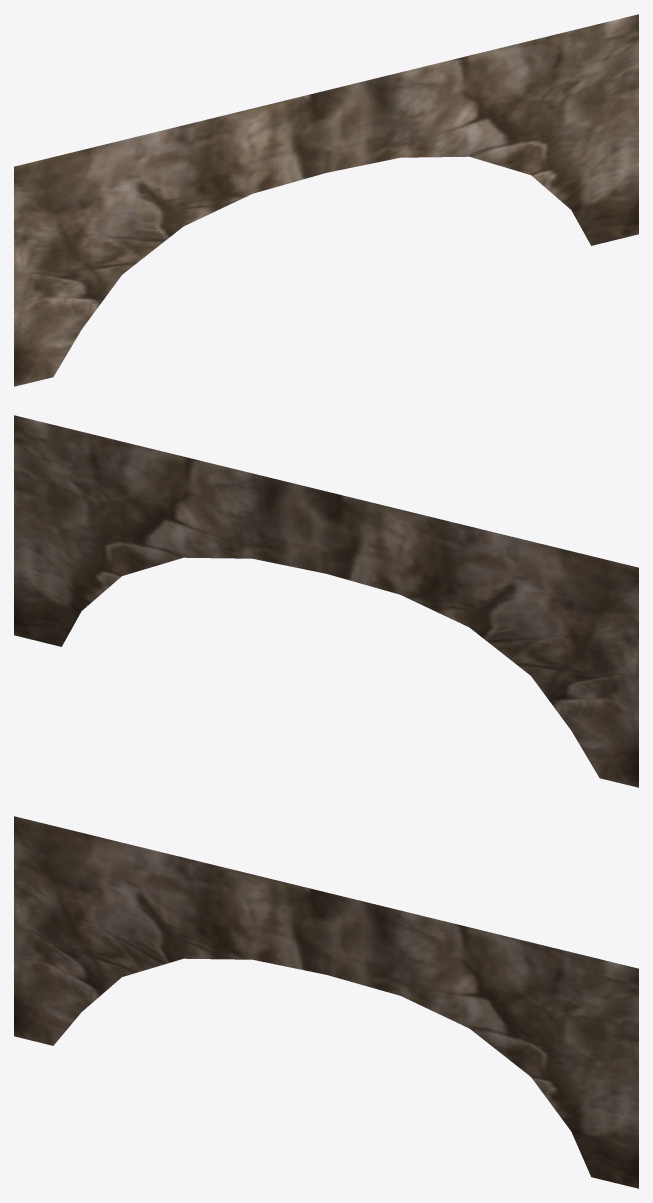
The model's file is EKH_THRONE_PS_TH_EN_LINE15.fbx.
3 views of the same model, one above another, from view 1: azimuth 30°, elevation 25°; view 2: azimuth 150°, elevation 25°; view 3: azimuth 330°, elevation 25° (orthographic).
Visible parts, largest first — view 1: EKH_THRONE_PS_TH_EN_LINE15; view 2: EKH_THRONE_PS_TH_EN_LINE15; view 3: EKH_THRONE_PS_TH_EN_LINE15.
Part boxes in pixels (left/top/right/bottom): EKH_THRONE_PS_TH_EN_LINE15: left=14, top=14, right=638, bottom=386; EKH_THRONE_PS_TH_EN_LINE15: left=14, top=415, right=638, bottom=787; EKH_THRONE_PS_TH_EN_LINE15: left=14, top=816, right=638, bottom=1188.
Bounding box in the file's own units: 50500 × 16998 × 0.00277.
1 material, 1 textured.
